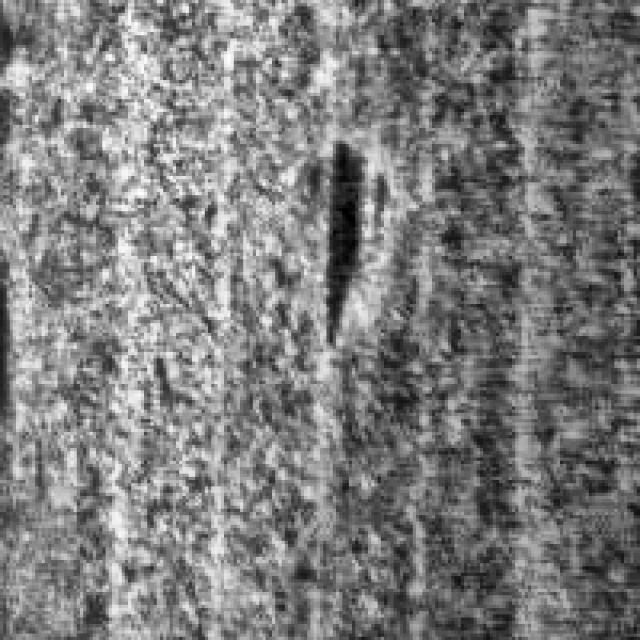Patches: (291, 124, 397, 358)
